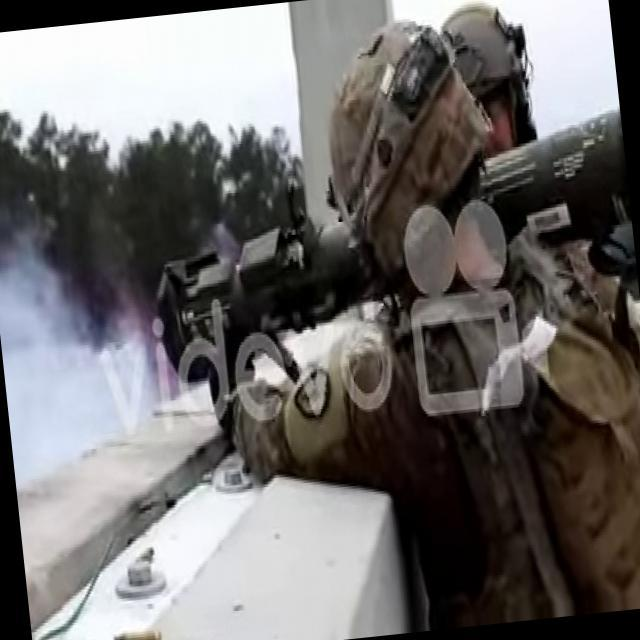rocket: (139, 111, 640, 362)
